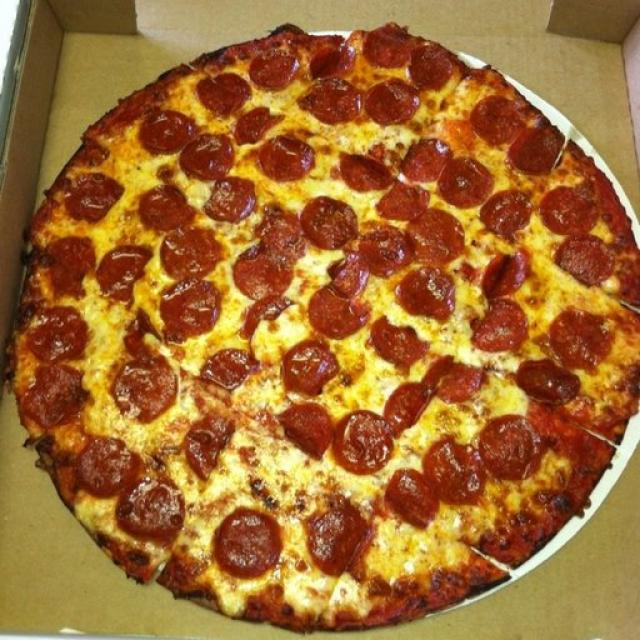Pepperoni: (115, 352, 178, 422), (355, 625, 640, 640), (310, 504, 369, 570), (552, 309, 612, 367), (482, 414, 540, 471), (128, 482, 178, 546), (217, 513, 276, 566), (399, 266, 454, 322), (164, 228, 224, 279), (424, 438, 481, 489), (471, 303, 528, 354), (305, 197, 359, 250), (29, 368, 84, 419), (338, 412, 388, 468), (162, 282, 217, 332), (442, 154, 494, 205), (542, 185, 598, 232), (281, 404, 330, 456), (375, 318, 426, 367), (236, 249, 288, 297), (413, 210, 461, 262), (191, 417, 232, 476), (304, 80, 358, 124), (522, 358, 576, 402), (484, 247, 531, 297), (316, 288, 367, 334), (49, 235, 88, 295), (357, 229, 409, 274), (287, 344, 336, 391), (384, 385, 430, 434), (560, 235, 609, 281), (98, 245, 138, 298), (185, 128, 231, 174), (512, 129, 561, 172), (239, 300, 294, 338), (368, 84, 418, 124), (262, 205, 302, 255), (430, 358, 480, 398), (262, 143, 316, 180), (391, 480, 440, 520), (38, 317, 88, 356), (71, 176, 118, 217), (84, 439, 131, 480), (143, 114, 194, 150), (340, 154, 391, 190), (476, 99, 516, 144), (480, 193, 530, 229), (365, 30, 411, 69), (404, 143, 450, 181), (141, 186, 189, 222), (252, 54, 296, 90), (202, 346, 248, 380), (308, 46, 356, 78), (197, 77, 250, 105), (413, 45, 451, 84), (214, 178, 255, 214), (386, 182, 427, 218), (240, 107, 278, 145), (332, 254, 366, 294)
Pizza: (11, 24, 640, 632)
